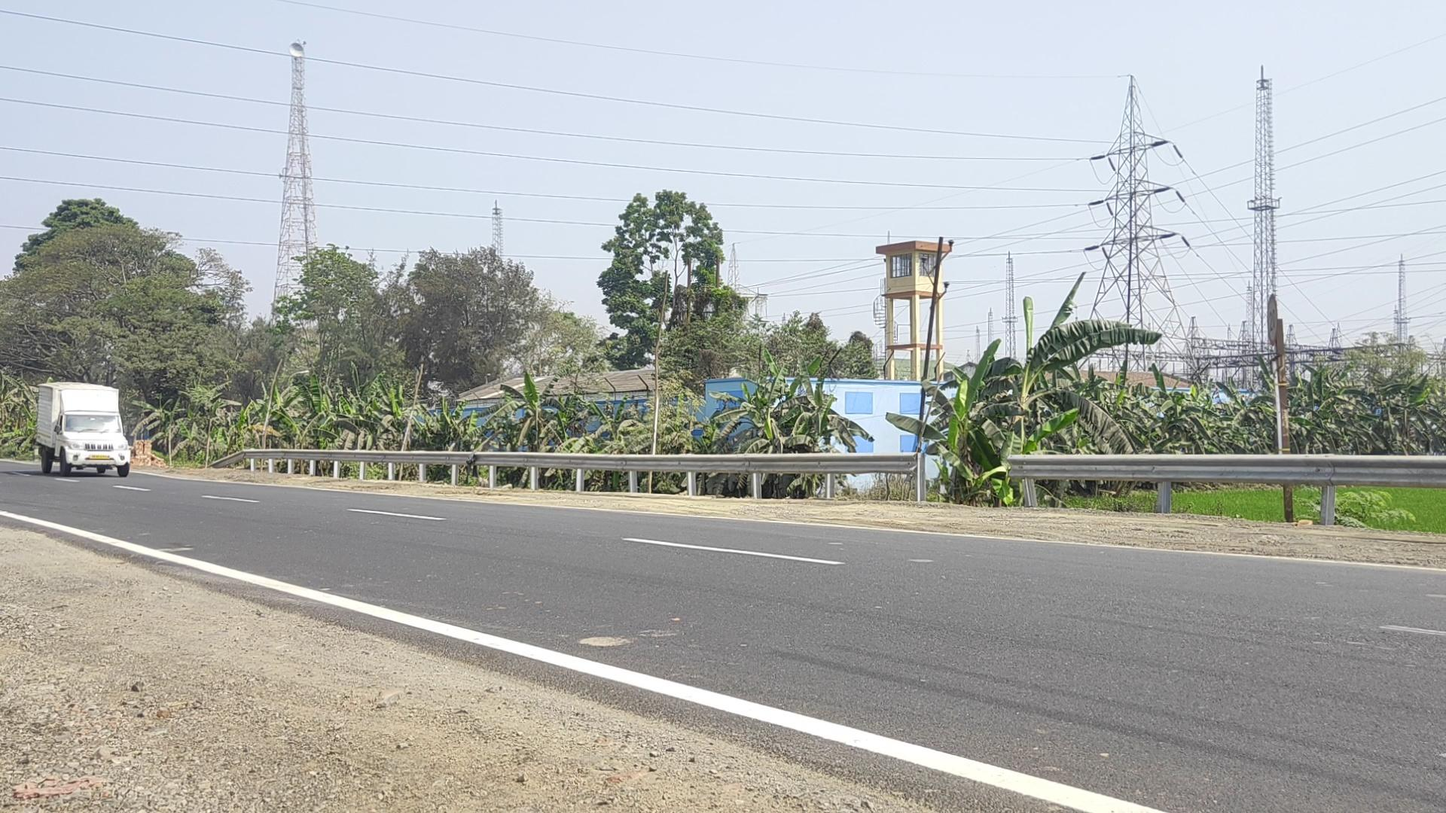van: (35, 382, 131, 478)
